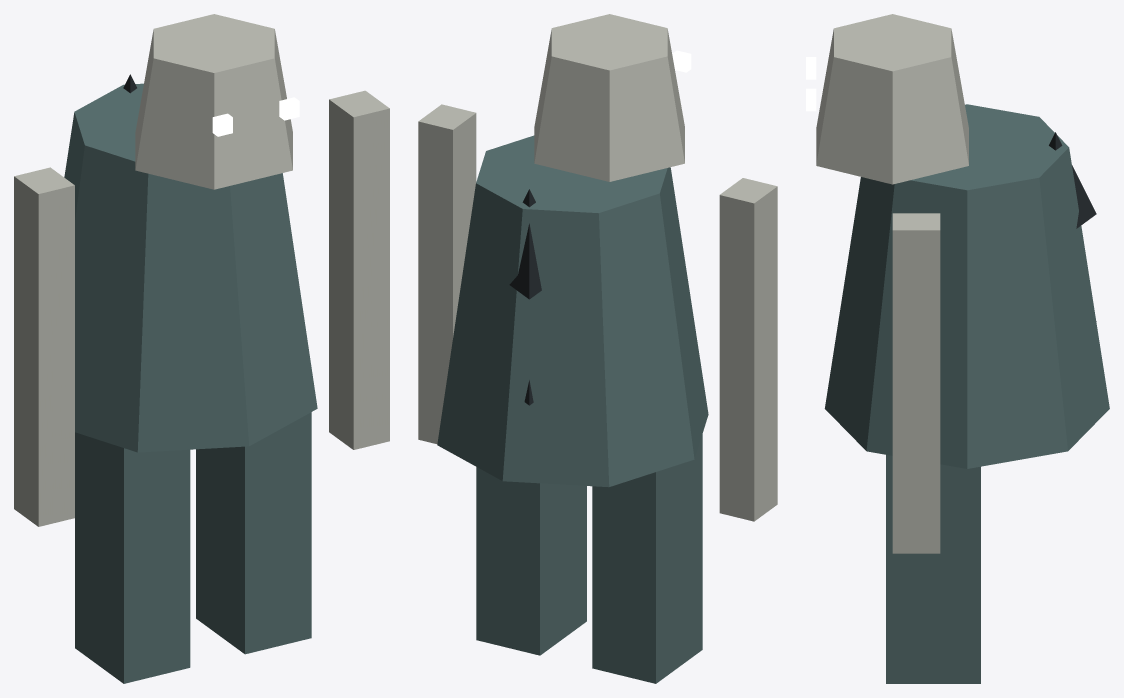
Rendered from deep_one.glb.
The picture shows the model from 3 angles, left to right: view 1: azimuth 30°, elevation 25°; view 2: azimuth 150°, elevation 25°; view 3: azimuth 270°, elevation 25°; orthographic projection. The views are drawn at different scales.
Visible parts, largest first — view 1: deep_one; view 2: deep_one; view 3: deep_one.
Boxes of the visible parts, x1,y1,x2,y2 form: deep_one: (14,14,389,683); deep_one: (418,14,777,683); deep_one: (806,14,1109,683).
Size of the model in its own units: 1.16 by 1.94 by 0.895.
